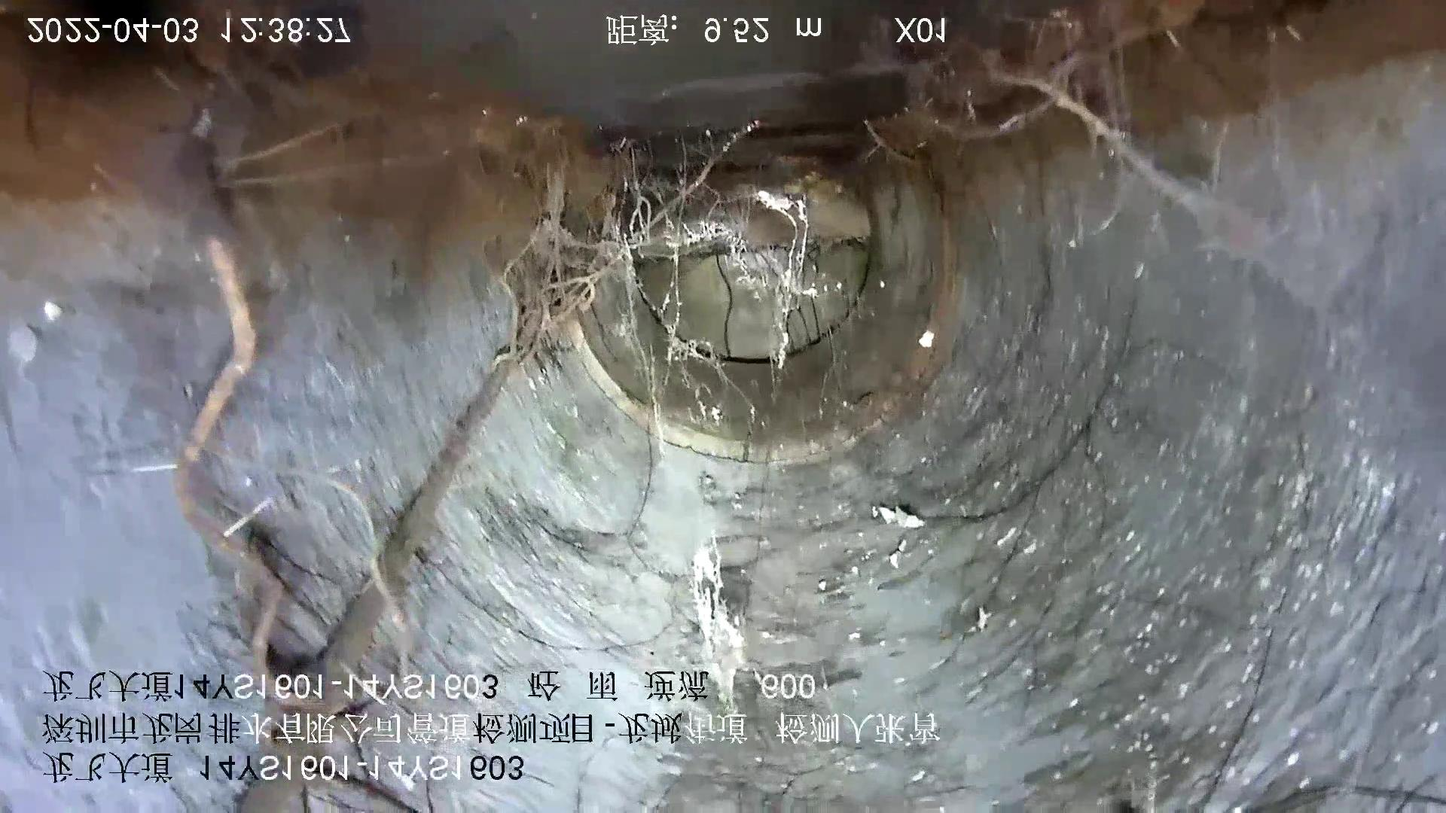CKTJ: (550, 134, 961, 471)
SG: (300, 1, 1199, 678), (178, 242, 307, 690), (691, 534, 746, 705)
